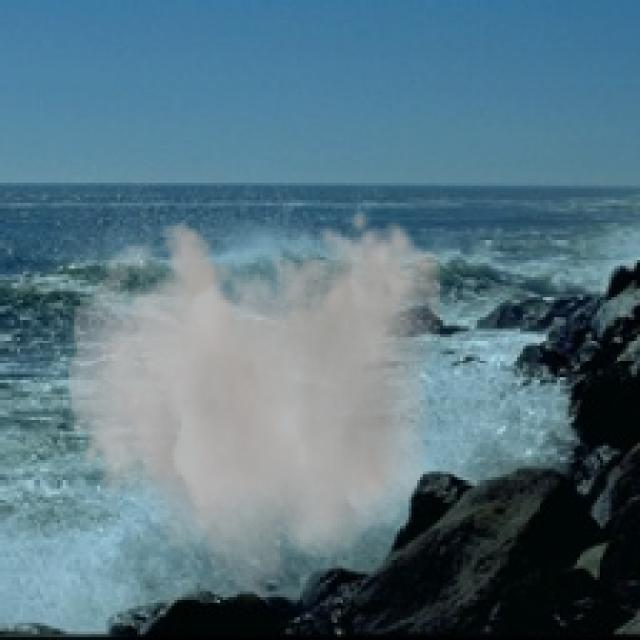smoke: (68, 208, 446, 612)
